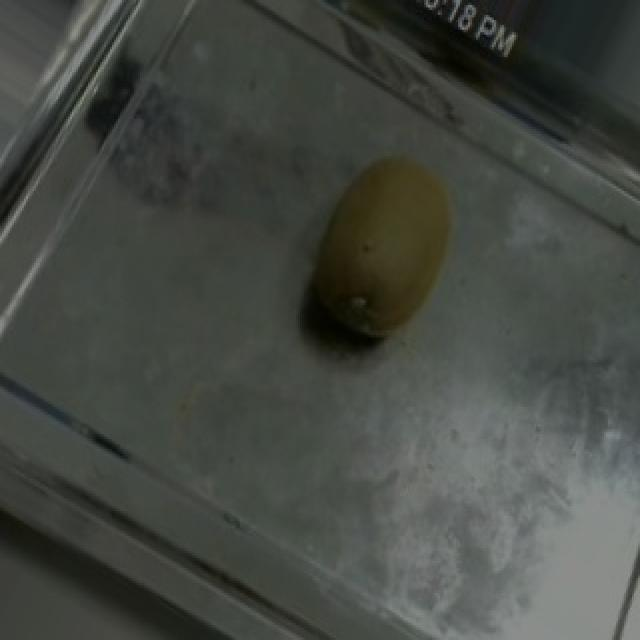Fruit: (270, 119, 498, 380)
